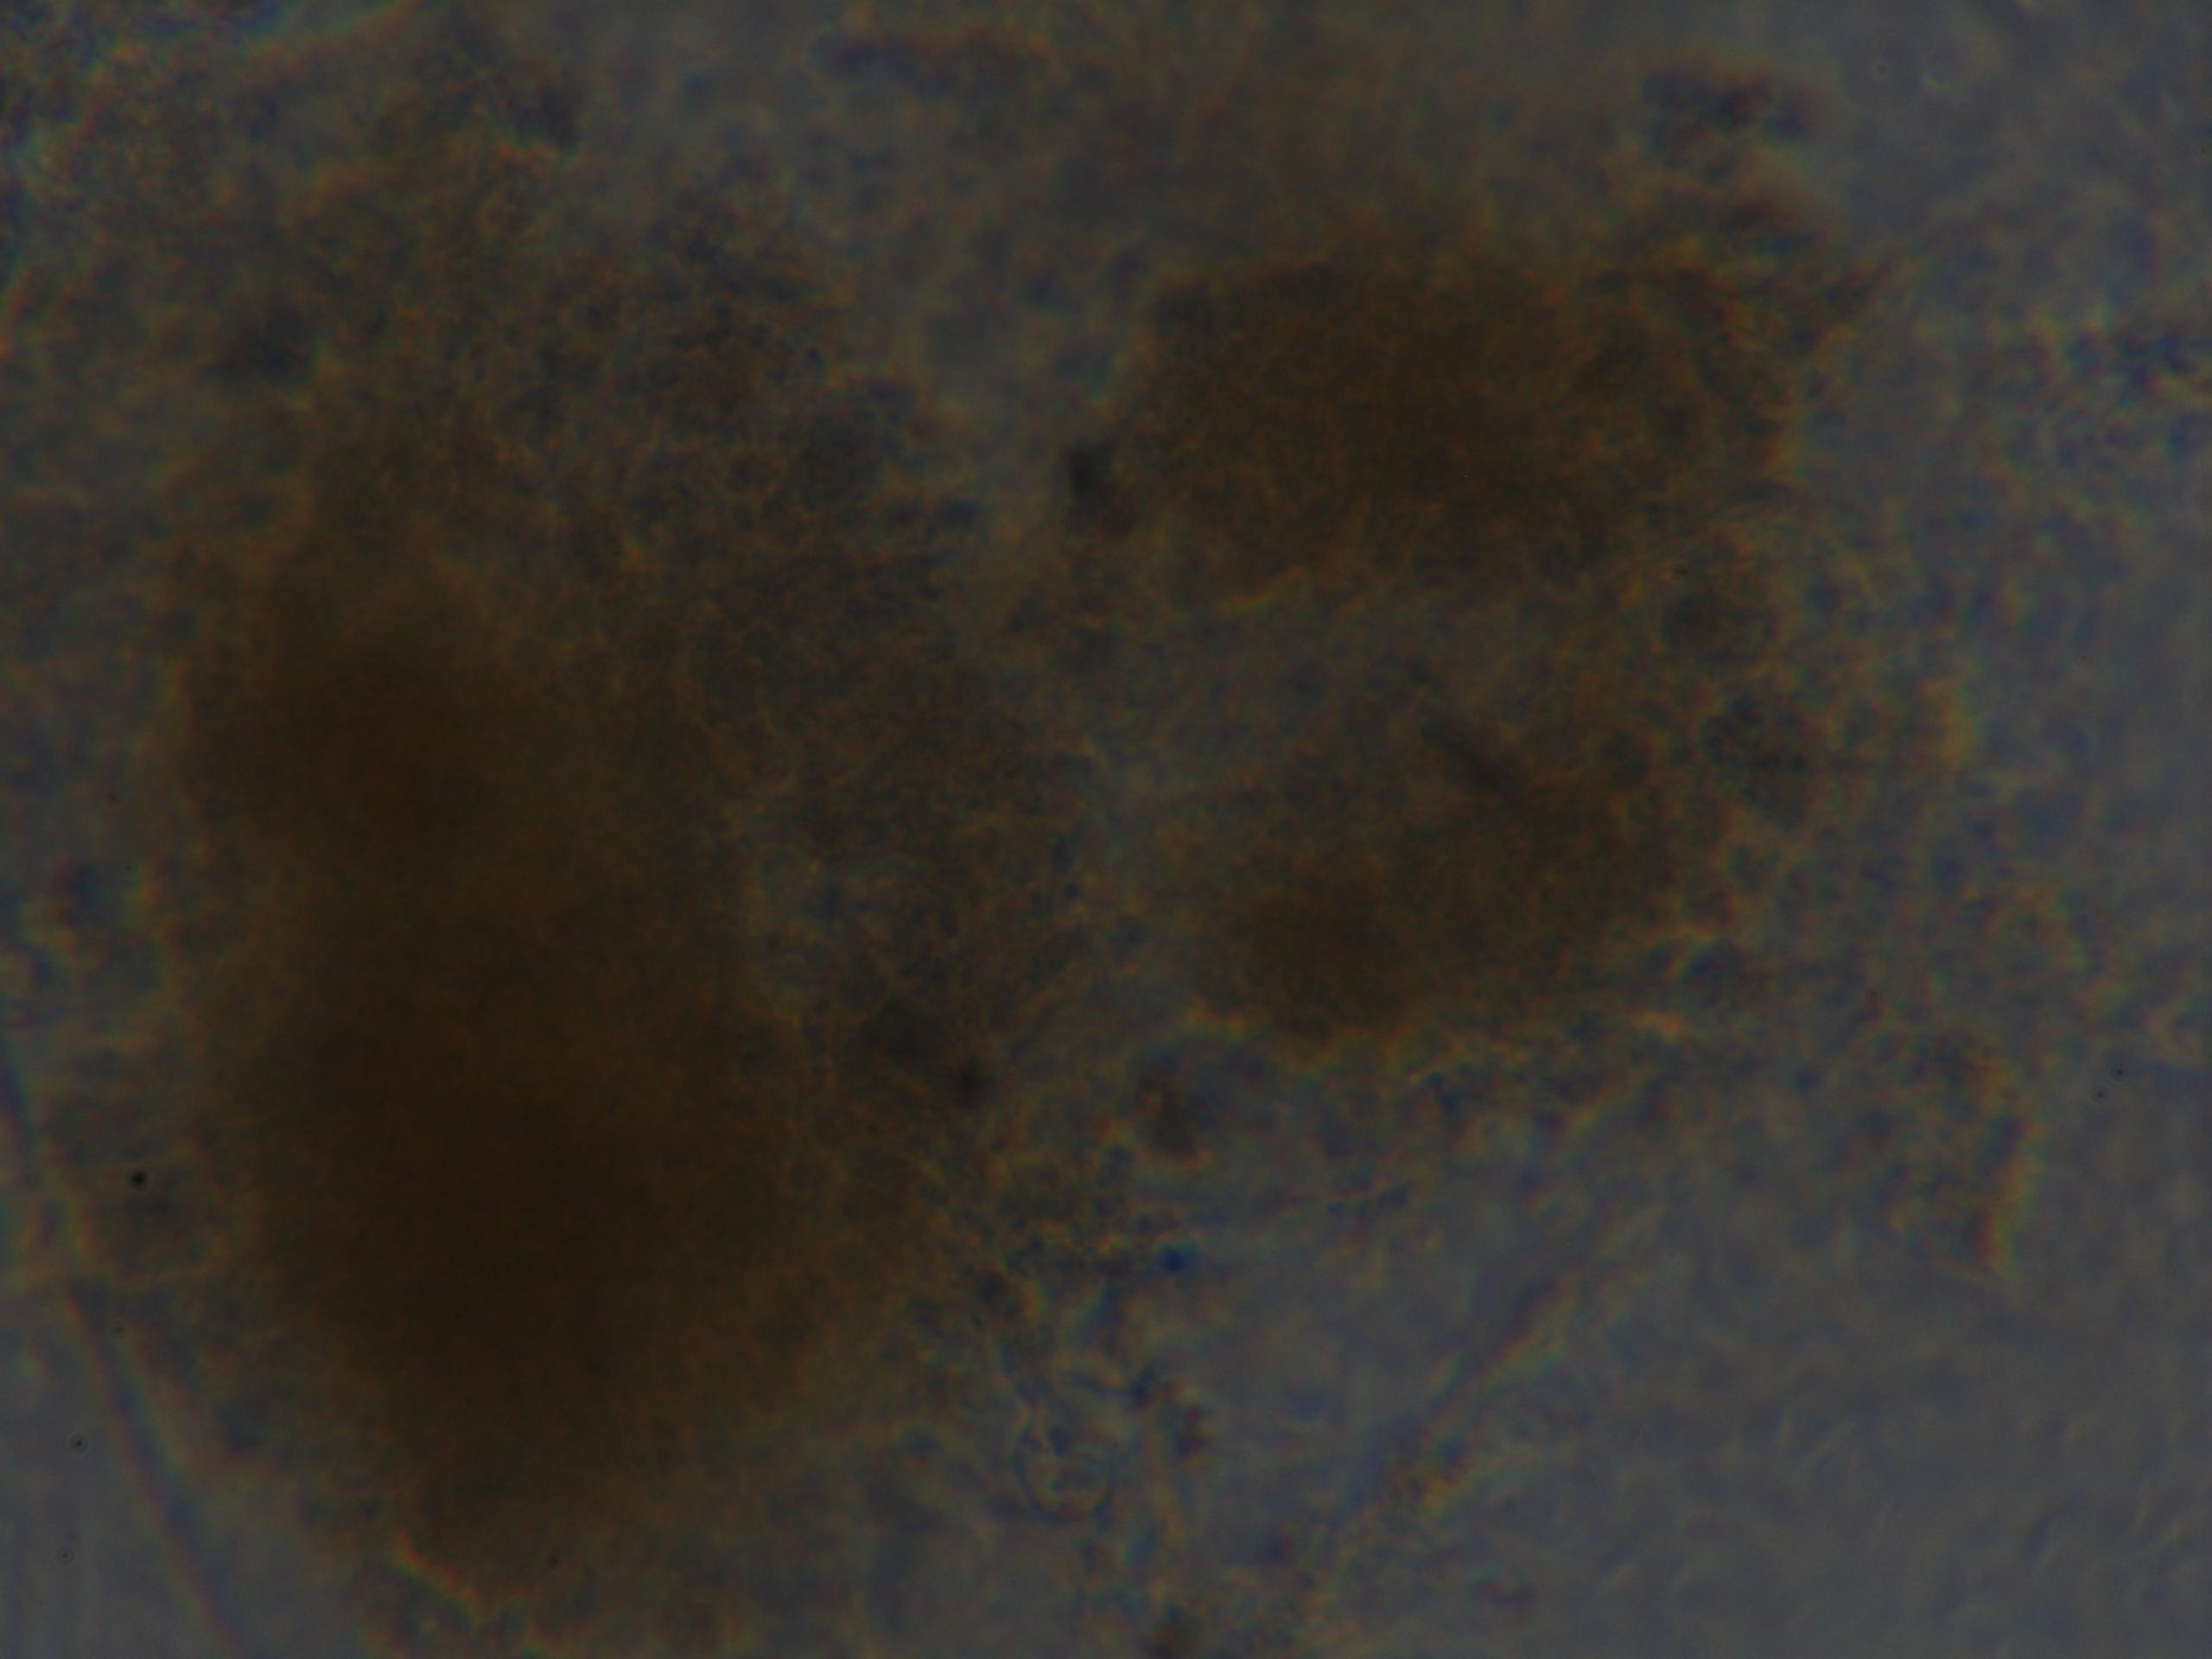spherical_floc: (54, 159, 1045, 1645)
